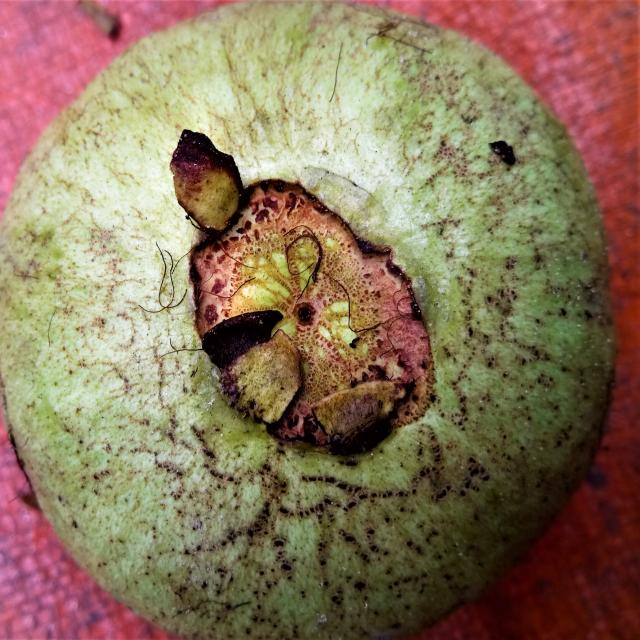Scab: (0, 3, 615, 638)
